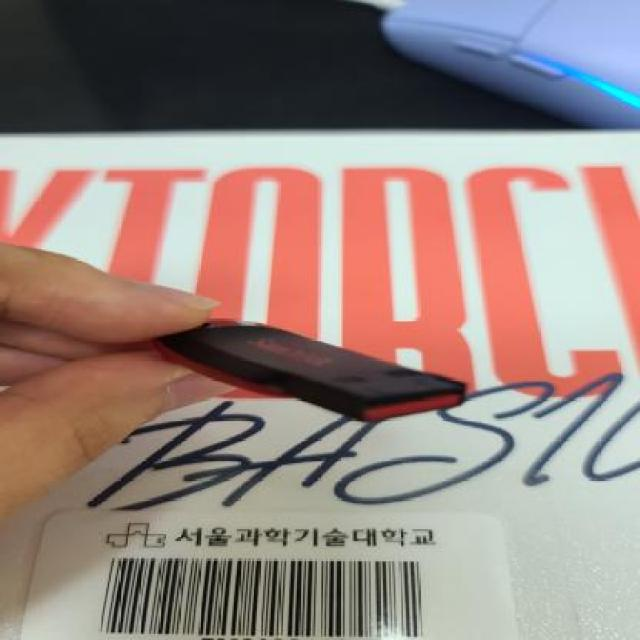Flashdisk: (148, 315, 468, 423)
